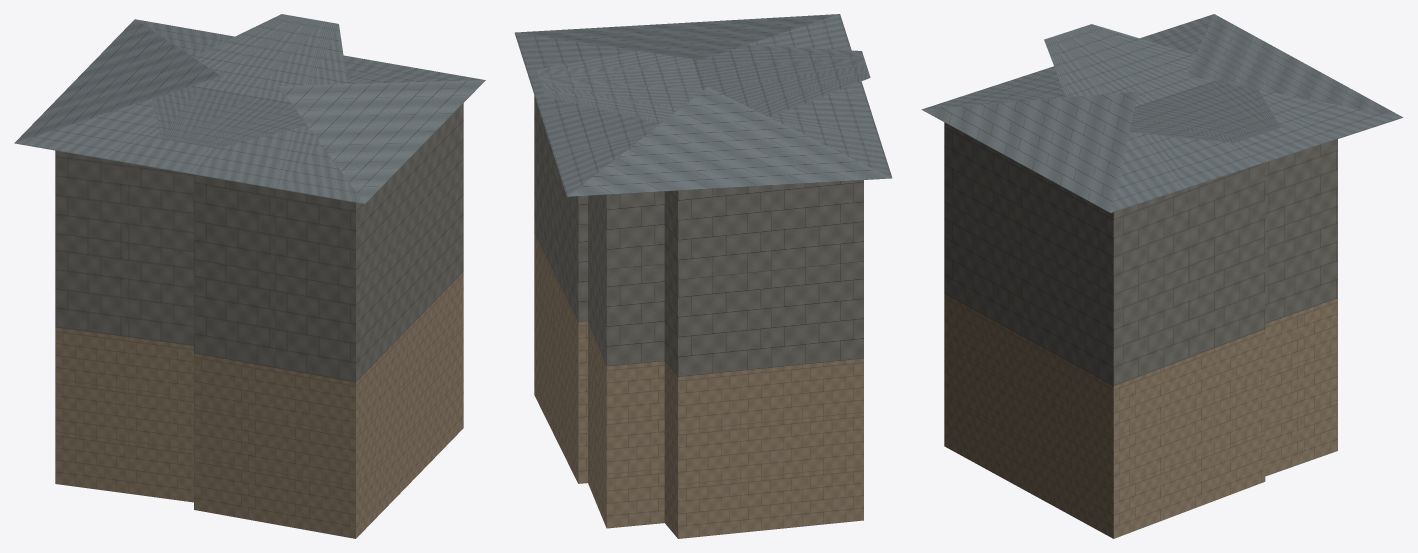
File: bld_c15_38_412.gltf
3 views of the same model, side by side, from view 1: azimuth 30°, elevation 25°; view 2: azimuth 150°, elevation 25°; view 3: azimuth 270°, elevation 25° (orthographic). The views are drawn at different scales.
Parts seen in each view (by area): view 1: bld_c15_38_412; view 2: bld_c15_38_412; view 3: bld_c15_38_412.
Boxes of the visible parts, left/top/right/bottom form: bld_c15_38_412: left=14, top=14, right=485, bottom=538; bld_c15_38_412: left=514, top=14, right=892, bottom=538; bld_c15_38_412: left=921, top=14, right=1402, bottom=538.
Size of the model in its own units: 14.26 by 12.2 by 14.59.
Materials: 3 (3 with a texture image).
